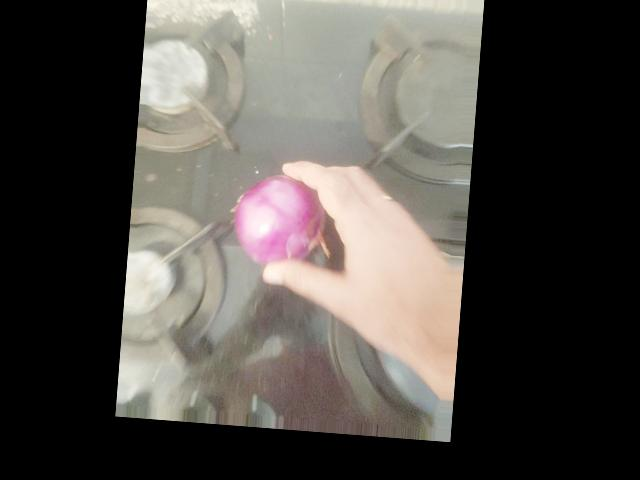onion: (196, 84, 285, 175)
